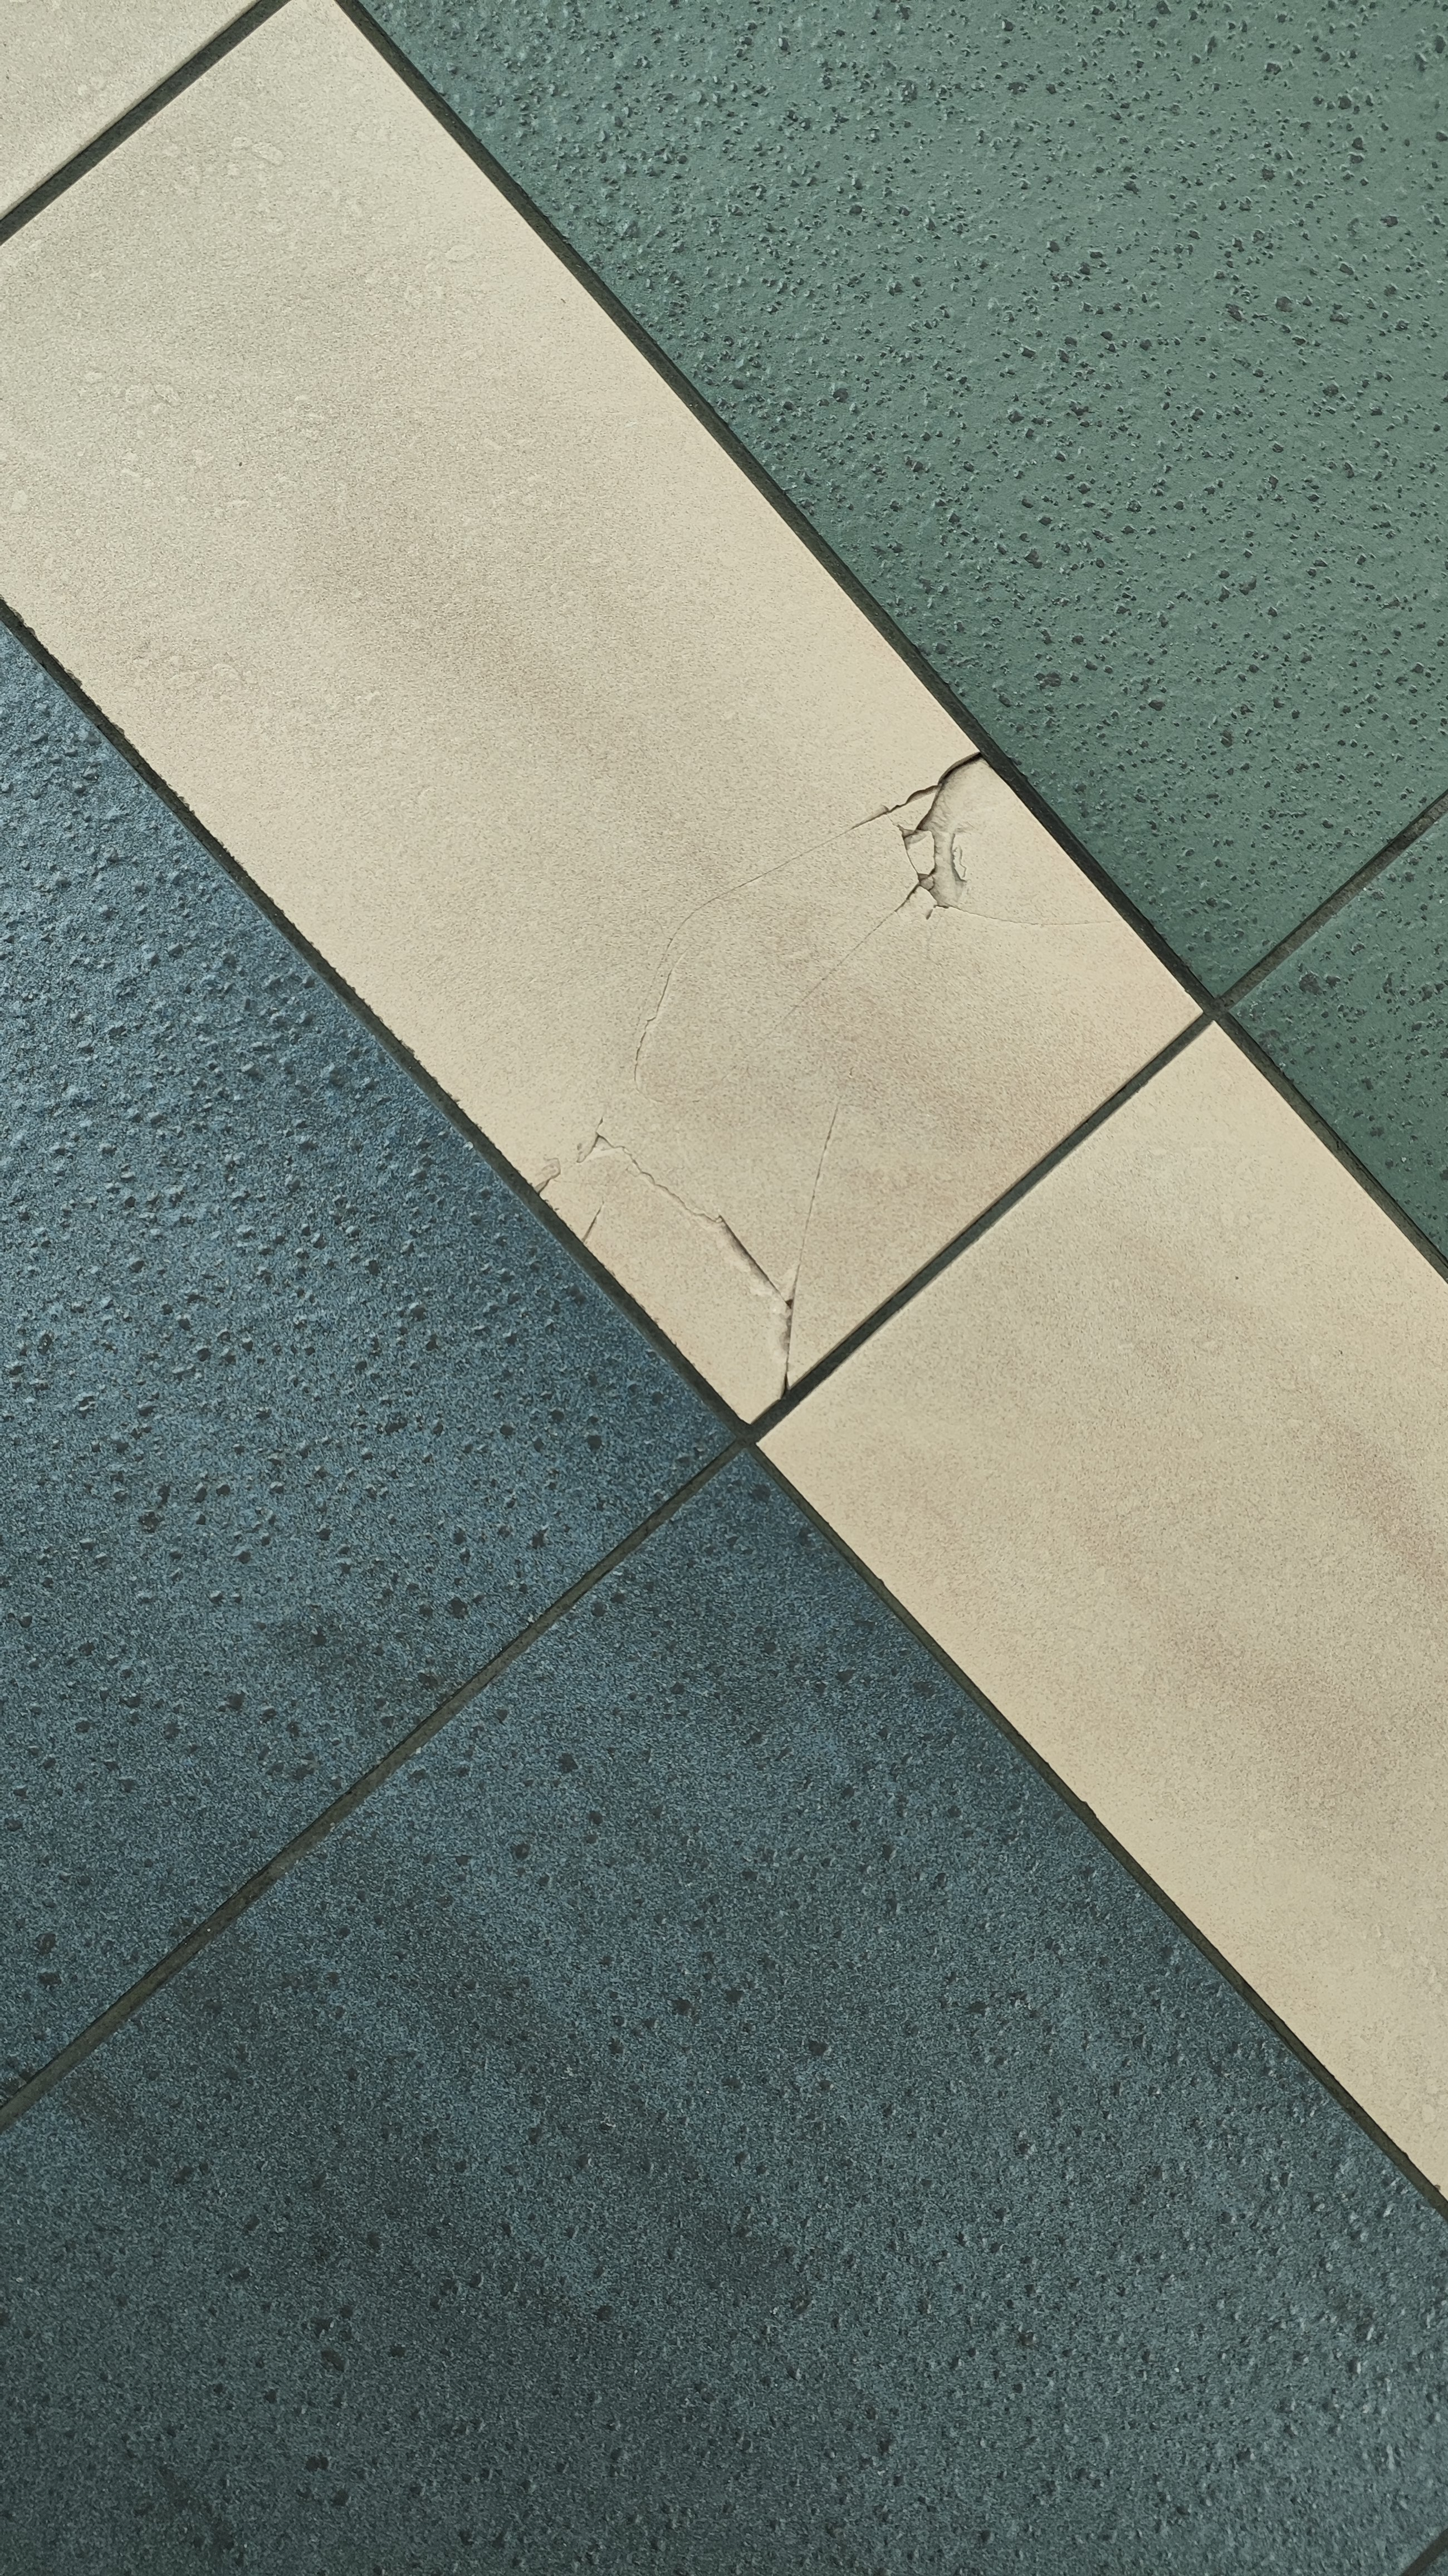Defect: (499, 959, 889, 1442), (827, 715, 1086, 961)
